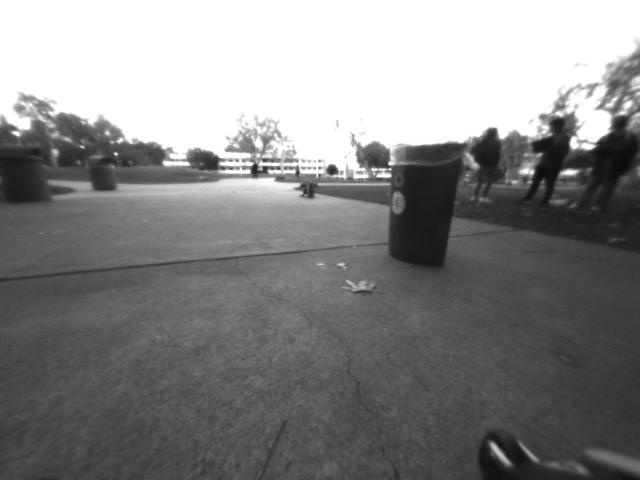trashcan: (379, 135, 469, 280)
